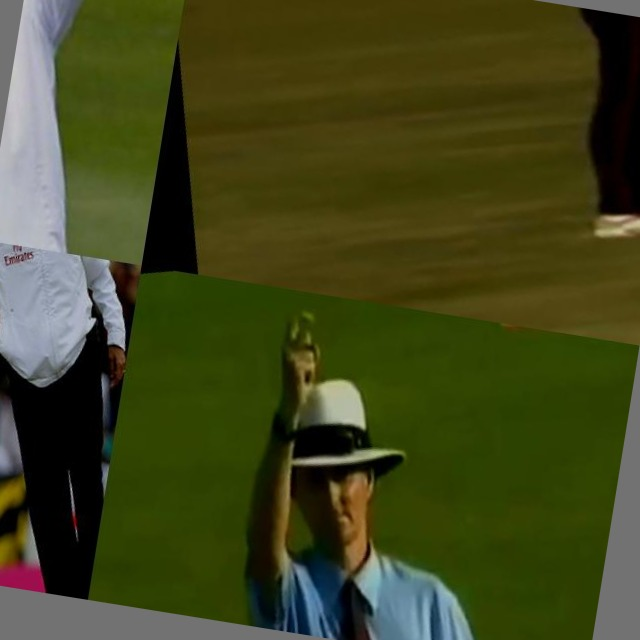No_Action: (430, 0, 640, 281)
No_Ball: (0, 240, 142, 600)
Out: (168, 278, 595, 640)
Six: (0, 0, 193, 266)
